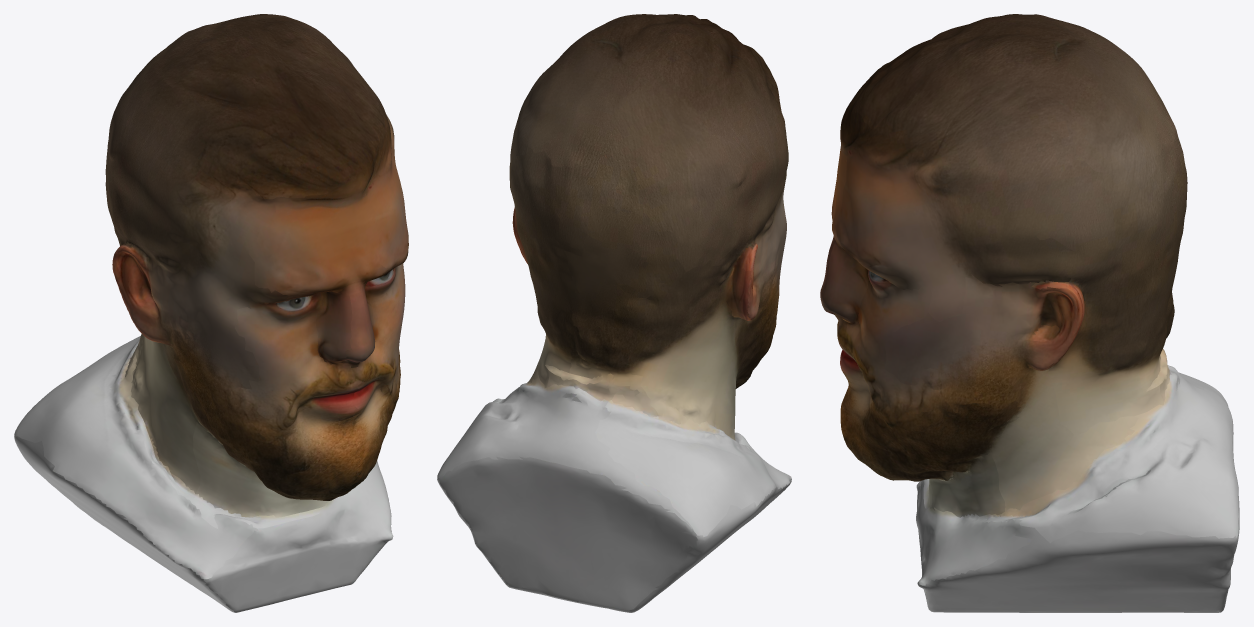
Rendered from head.glb.
3 views of the same model, side by side, from view 1: azimuth 30°, elevation 25°; view 2: azimuth 150°, elevation 25°; view 3: azimuth 270°, elevation 25° (orthographic). The views are drawn at different scales.
Visible parts, largest first — view 1: textured_mesh.obj; view 2: textured_mesh.obj; view 3: textured_mesh.obj.
Boxes of the visible parts, x1,y1,x2,y2 form: textured_mesh.obj: (14, 14, 408, 612); textured_mesh.obj: (437, 14, 791, 612); textured_mesh.obj: (820, 14, 1239, 612).
Size of the model in its own units: 1.13 by 1.99 by 1.35.
Materials: 1 (1 with a texture image).
